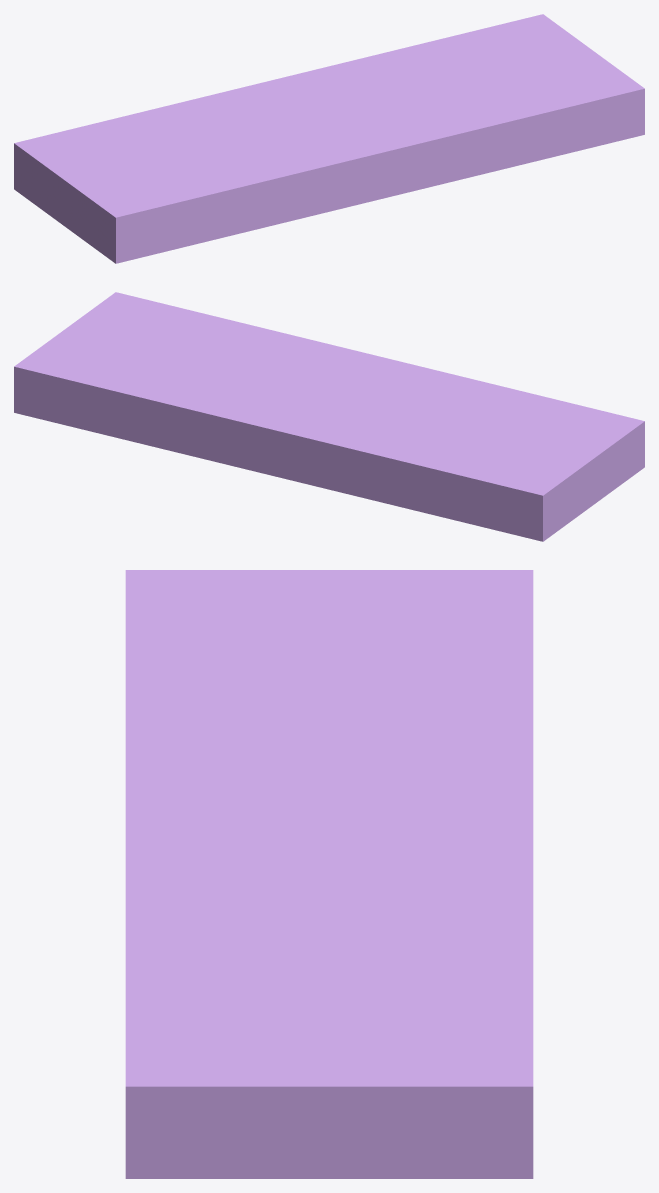
The model's file is tool_6-Group_27.gltf.
3 renders of one model, top to bottom at view 1: azimuth 30°, elevation 25°; view 2: azimuth 150°, elevation 25°; view 3: azimuth 270°, elevation 25°, orthographic. The views are drawn at different scales.
Parts seen in each view (by area): view 1: <组件#60>_15, <组件#60>_12, <组件#60>_13, <组件#60>_14; view 2: <组件#60>_12, <组件#60>_15, <组件#60>_13, <组件#60>_14; view 3: <组件#60>_12, <组件#60>_13, <组件#60>_14, <组件#60>_15.
Boxes of the visible parts, x1,y1,x2,y2 form: <组件#60>_15: [90, 70, 644, 263]; <组件#60>_12: [14, 14, 568, 207]; <组件#60>_13: [65, 51, 618, 244]; <组件#60>_14: [39, 33, 593, 226]; <组件#60>_12: [14, 348, 568, 541]; <组件#60>_15: [90, 292, 644, 485]; <组件#60>_13: [65, 311, 619, 504]; <组件#60>_14: [40, 329, 593, 522]; <组件#60>_12: [431, 570, 533, 1178]; <组件#60>_13: [227, 570, 329, 1178]; <组件#60>_14: [329, 570, 431, 1178]; <组件#60>_15: [125, 570, 227, 1178].
Size of the model in its own units: 118 by 9.84 by 39.37.
